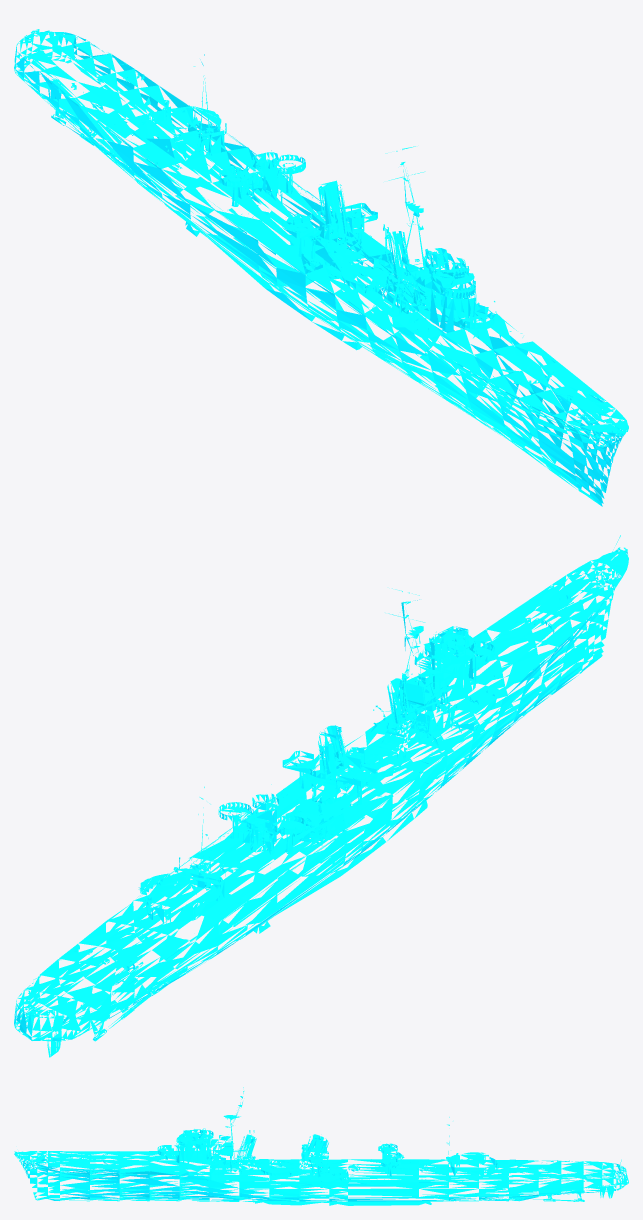
The model's file is Yamagiri.glb.
The picture shows the model from 3 angles, top to bottom: view 1: azimuth 30°, elevation 25°; view 2: azimuth 150°, elevation 25°; view 3: azimuth 270°, elevation 25°; orthographic projection. The views are drawn at different scales.
Bounding box in the file's own units: 0.8671 × 1.96 × 9.93.
